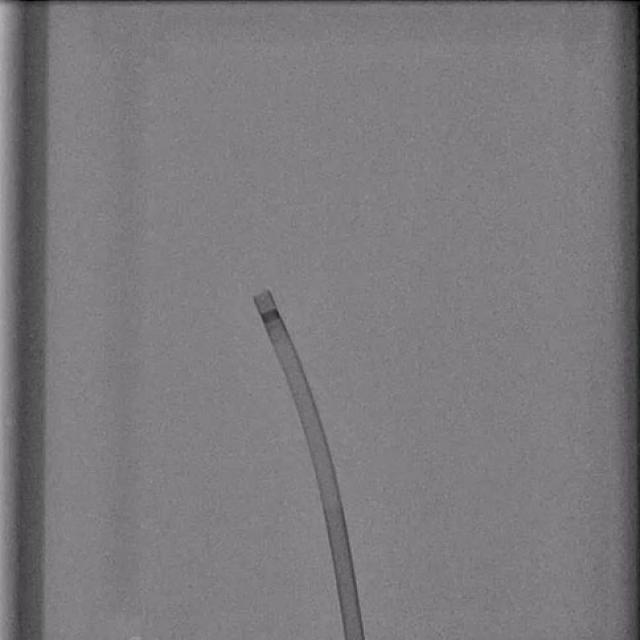bend: (321, 496, 344, 512)
entry: (345, 636, 365, 640)
marker: (259, 310, 283, 324)
tip: (252, 289, 272, 299)
